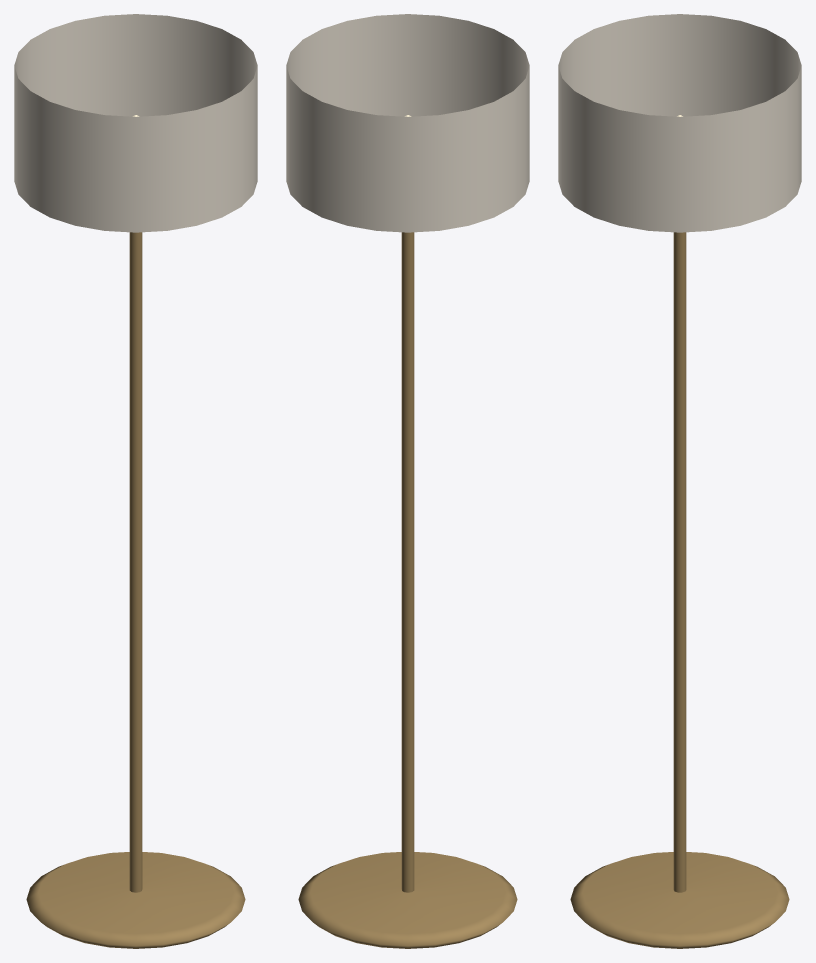
Rendered from CAL-FLP-std.glb.
The picture shows the model from 3 angles, left to right: view 1: azimuth 30°, elevation 25°; view 2: azimuth 150°, elevation 25°; view 3: azimuth 270°, elevation 25°; orthographic projection.
Parts seen in each view (by area): view 1: CAL-FLP-std; view 2: CAL-FLP-std; view 3: CAL-FLP-std.
Part boxes in pixels (x1=…): CAL-FLP-std: x1=14, y1=14, x2=257, y2=948; CAL-FLP-std: x1=286, y1=14, x2=529, y2=948; CAL-FLP-std: x1=558, y1=14, x2=801, y2=948.
Size of the model in its own units: 0.42 by 1.6 by 0.42.
